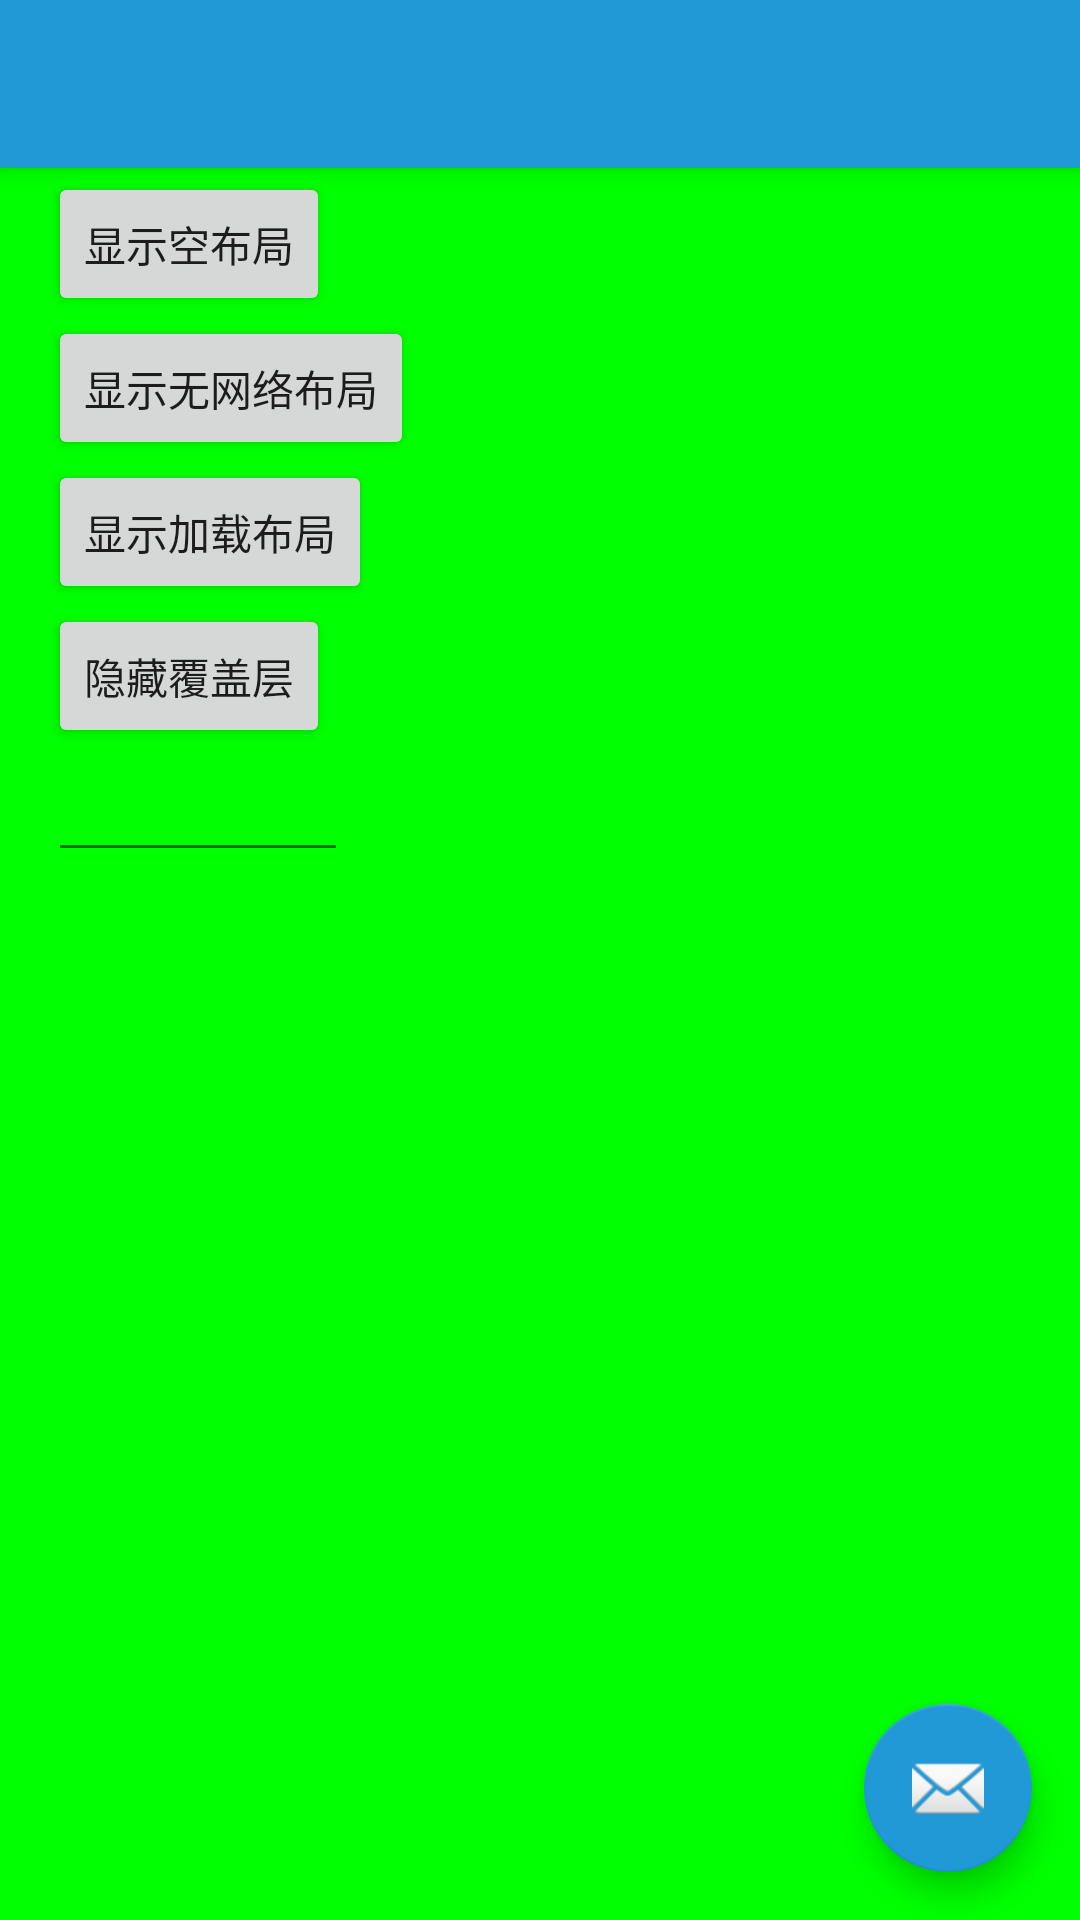

Icon click points for this 1080×1920 phone screenshot, format (x,y):
email: (948,1788)
